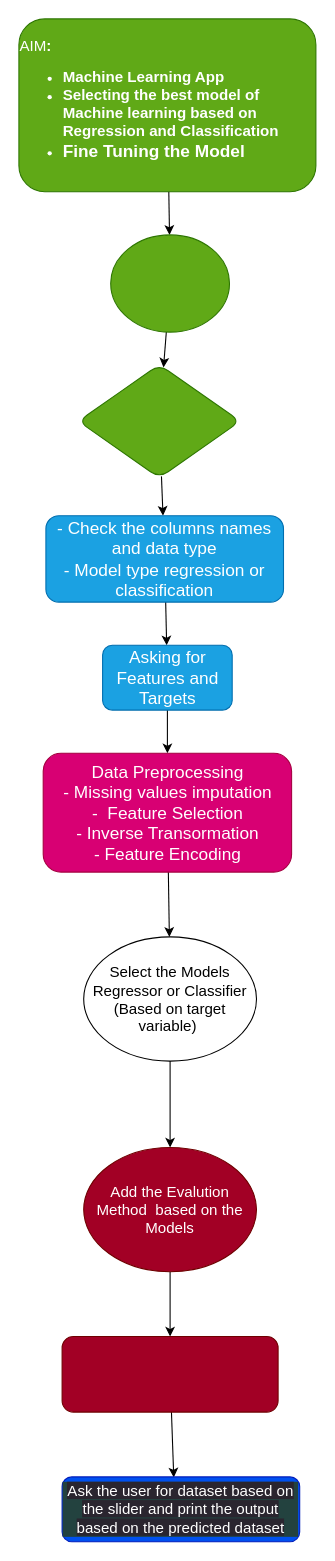
The diagram is 335 pixels wide and 1561 high, and some of its shapes have lost their labels. Here are the shapes that lost their labels. From the top down, the centre of each, then its label:
At pixel 170 283: "Load or upload the Dataset".
At pixel 158 420: "Example dataset Button".
At pixel 169 1373: "Print the best Evalution Model with multiple Hyperparameter tune".
